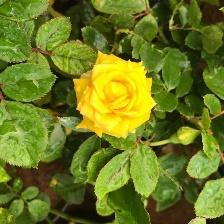rose: (74, 53, 158, 140)
